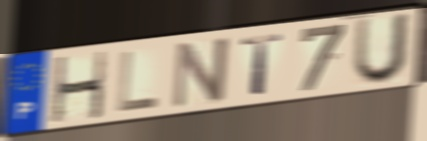7: (297, 22, 348, 93)
H: (50, 48, 109, 126)
L: (115, 48, 161, 116)
N: (169, 34, 232, 112)
T: (239, 31, 286, 97)
U: (350, 10, 414, 87)
